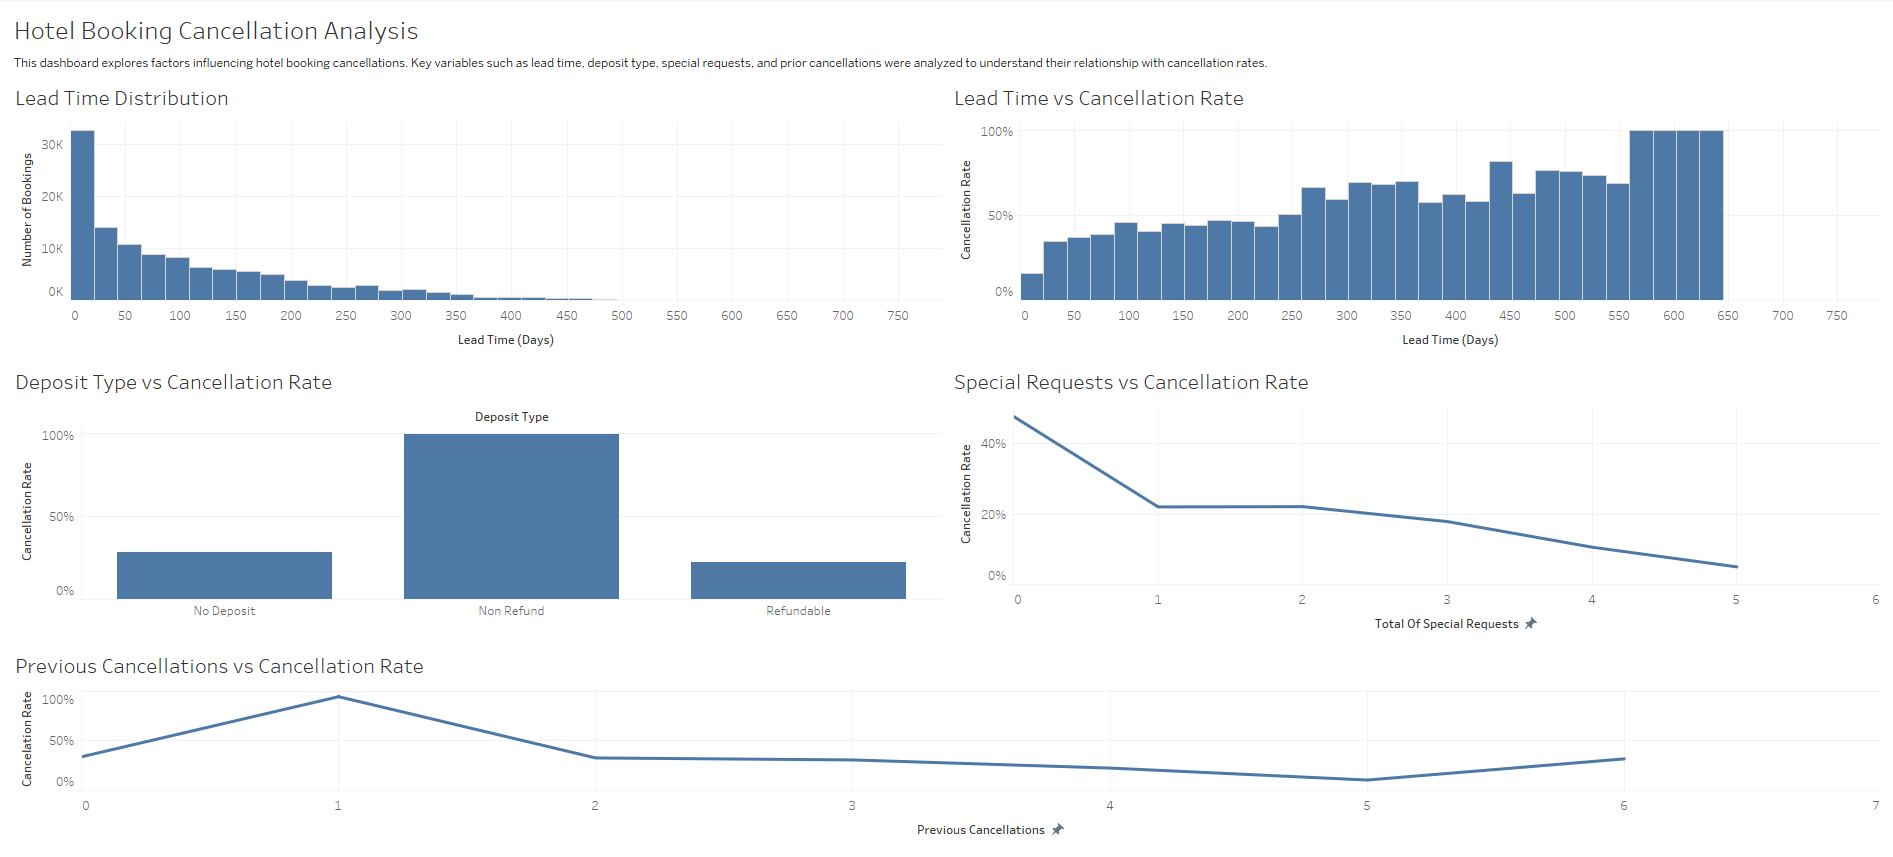

What the dashboard file says about the page in this screenshot:
{"tool":"tableau","page":{"name":"Hotel Booking Cancellation Analysis","canvas":[1000,1000],"units":"permille","ordinal":0},"visuals":[{"type":"title","box":[4.7,9.3,990.6,49.1]},{"type":"text","box":[4.7,58.4,990.6,28]},{"type":"worksheet","title":"Lead Time Distribution","mark":"Automatic","rows":["lead_time"],"cols":["Lead Time (bin)"],"box":[4.7,86.5,495.3,331.9]},{"type":"worksheet","title":"Lead Time vs Cancellation Rate","mark":"Automatic","rows":["is_canceled"],"cols":["Lead Time (bin)"],"box":[500,86.5,495.3,331.9]},{"type":"worksheet","title":"Deposit Type vs Cancellation Rate","mark":"Automatic","rows":["is_canceled"],"cols":["deposit_type"],"box":[4.7,418.3,495.3,331.9]},{"type":"worksheet","title":"Special Requests vs Cancellation Rate","mark":"Automatic","rows":["is_canceled"],"cols":["total_of_special_requests"],"box":[500,418.4,495.3,331.9]},{"type":"worksheet","title":"Previous Cancellations vs Cancellation Rate","mark":"Automatic","rows":["is_canceled"],"cols":["previous_cancellations"],"box":[4.7,750.3,990.6,240.4]}]}

Visuals, with their boxes on the dashboard's canvas, which has no fixed pixel size, in thousandths of its width and height (x1, y1, x2, y2). These are canvas units, not pixel positions in the 1893x857 screenshot, which may show the page scaled, cropped or inside an application window:
title: box(5, 9, 995, 58)
text: box(5, 58, 995, 86)
"Lead Time Distribution" worksheet: box(5, 86, 500, 418)
"Lead Time vs Cancellation Rate" worksheet: box(500, 86, 995, 418)
"Deposit Type vs Cancellation Rate" worksheet: box(5, 418, 500, 750)
"Special Requests vs Cancellation Rate" worksheet: box(500, 418, 995, 750)
"Previous Cancellations vs Cancellation Rate" worksheet: box(5, 750, 995, 991)
